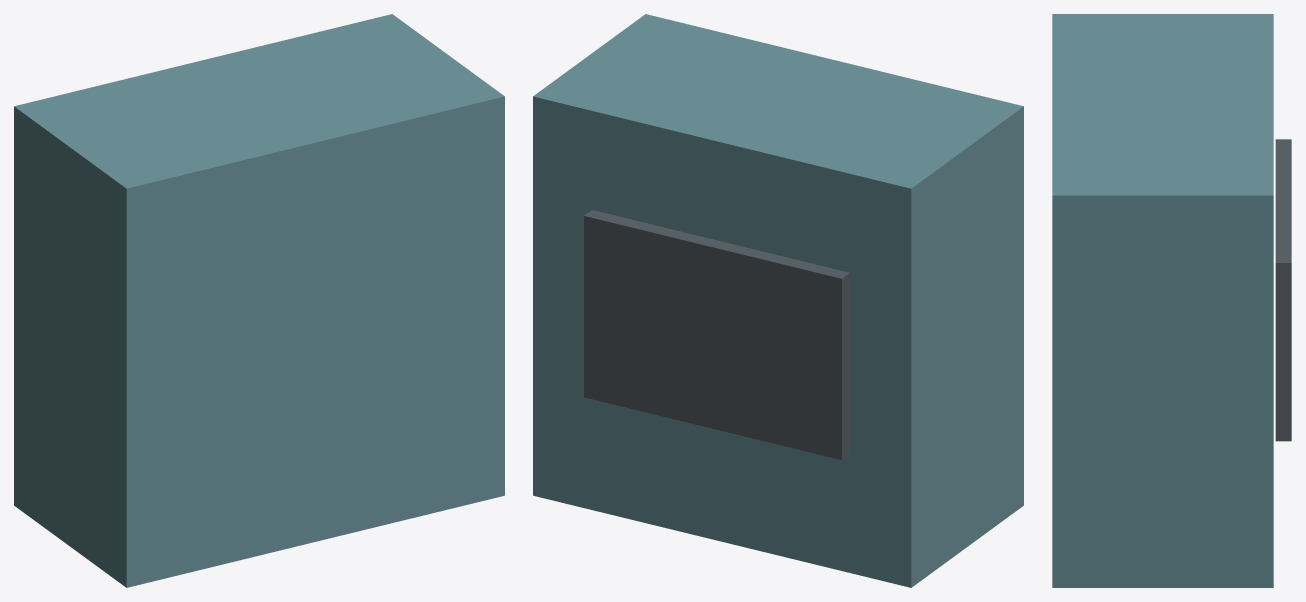
The model's file is iz2_laundromat_industrial_washer.glb.
The picture shows the model from 3 angles, left to right: view 1: azimuth 30°, elevation 25°; view 2: azimuth 150°, elevation 25°; view 3: azimuth 270°, elevation 25°; orthographic projection.
Visible parts, largest first — view 1: body; view 2: body; view 3: body.
Boxes of the visible parts, box(x1,y1,x2,y2) form: body: box(14, 14, 504, 587); body: box(533, 14, 1023, 587); body: box(1052, 14, 1291, 587).
Size of the model in its own units: 1.07 by 1.08 by 0.598.
